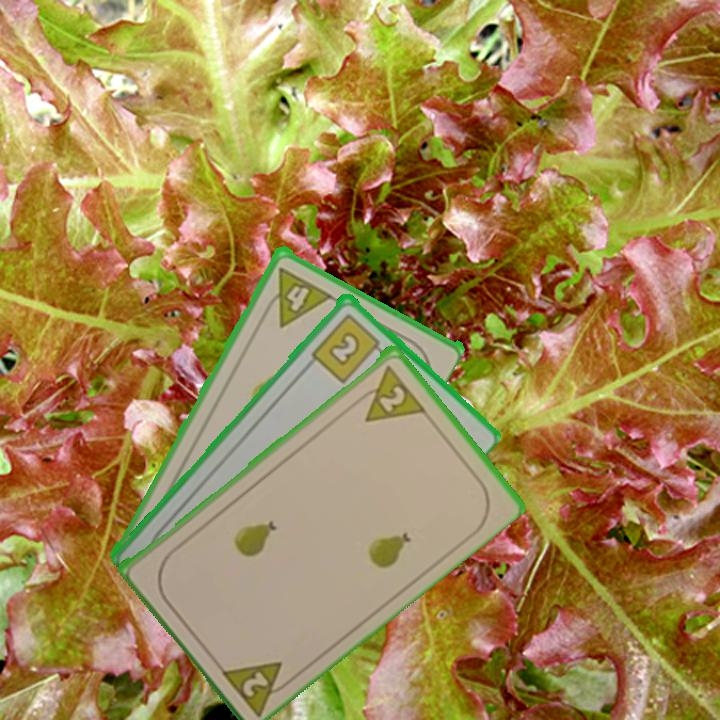2b: (308, 309, 388, 385)
2p: (215, 656, 299, 717), (351, 361, 427, 425)
4p: (258, 263, 334, 329)
